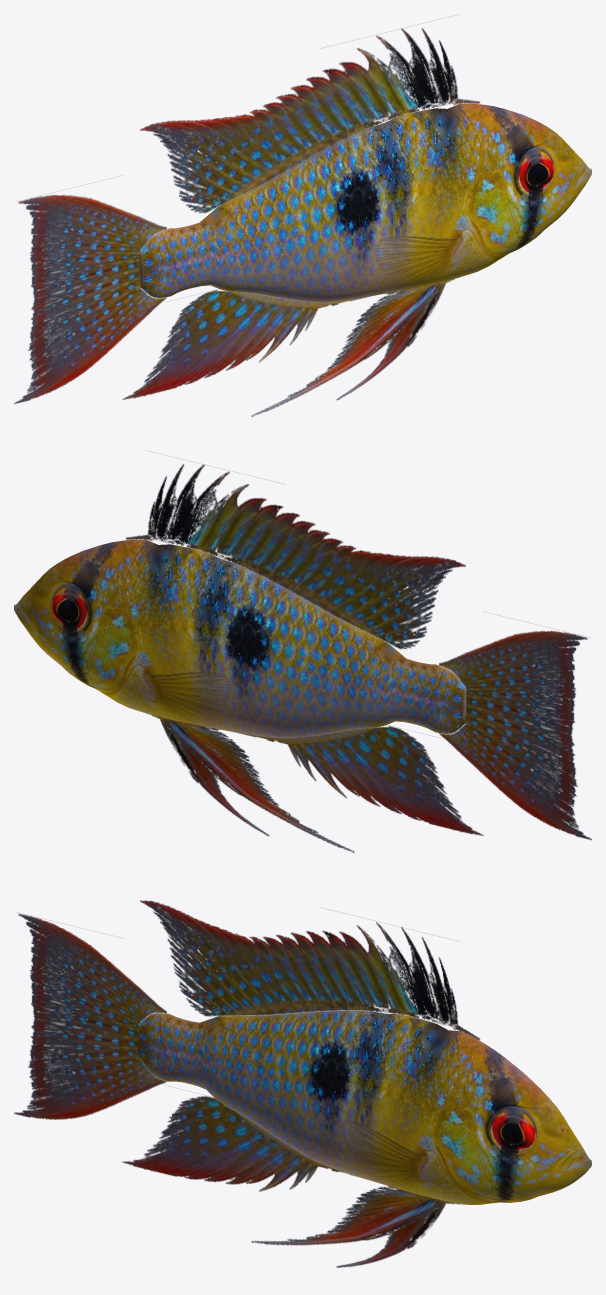
File: species-ram.glb
The picture shows the model from 3 angles, top to bottom: view 1: azimuth 30°, elevation 25°; view 2: azimuth 150°, elevation 25°; view 3: azimuth 330°, elevation 25°; orthographic projection.
Parts seen in each view (by area): view 1: ram; view 2: ram; view 3: ram.
Part boxes in pixels (x1=…): ram: x1=14, y1=15, x2=591, y2=416; ram: x1=14, y1=451, x2=591, y2=852; ram: x1=14, y1=900, x2=591, y2=1267.
Size of the model in its own units: 0.05 by 0.0295 by 0.00542.
Materials: 1 (1 with a texture image).
